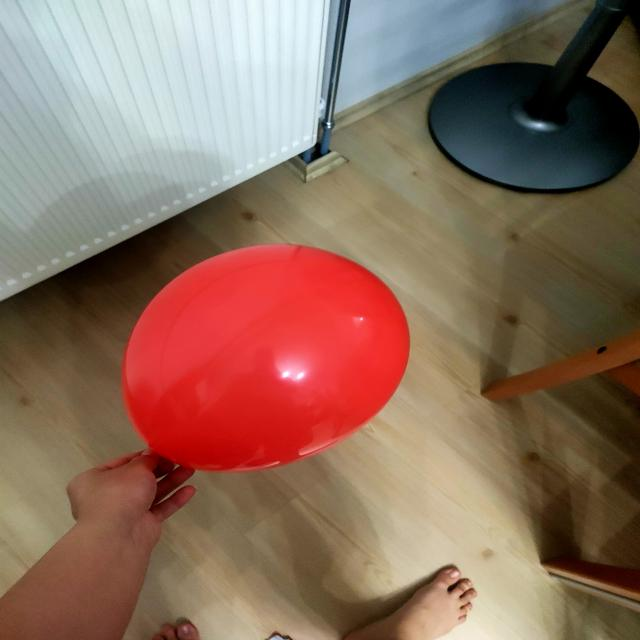red: (122, 245, 413, 474)
